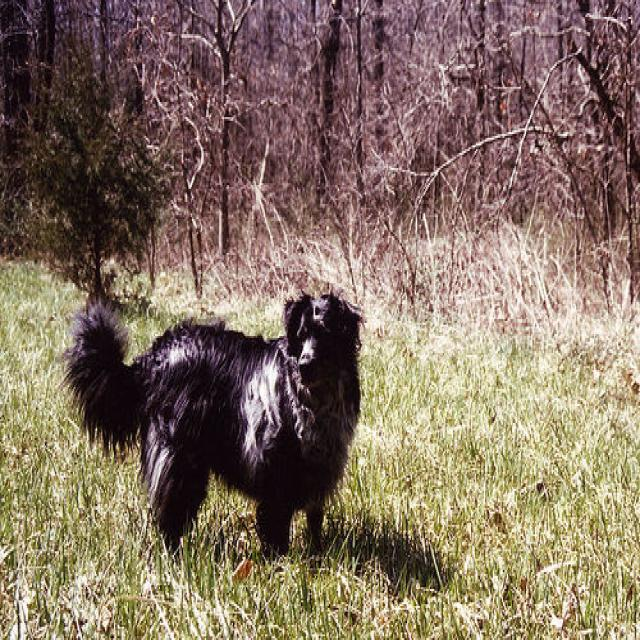dog: (63, 290, 369, 554)
